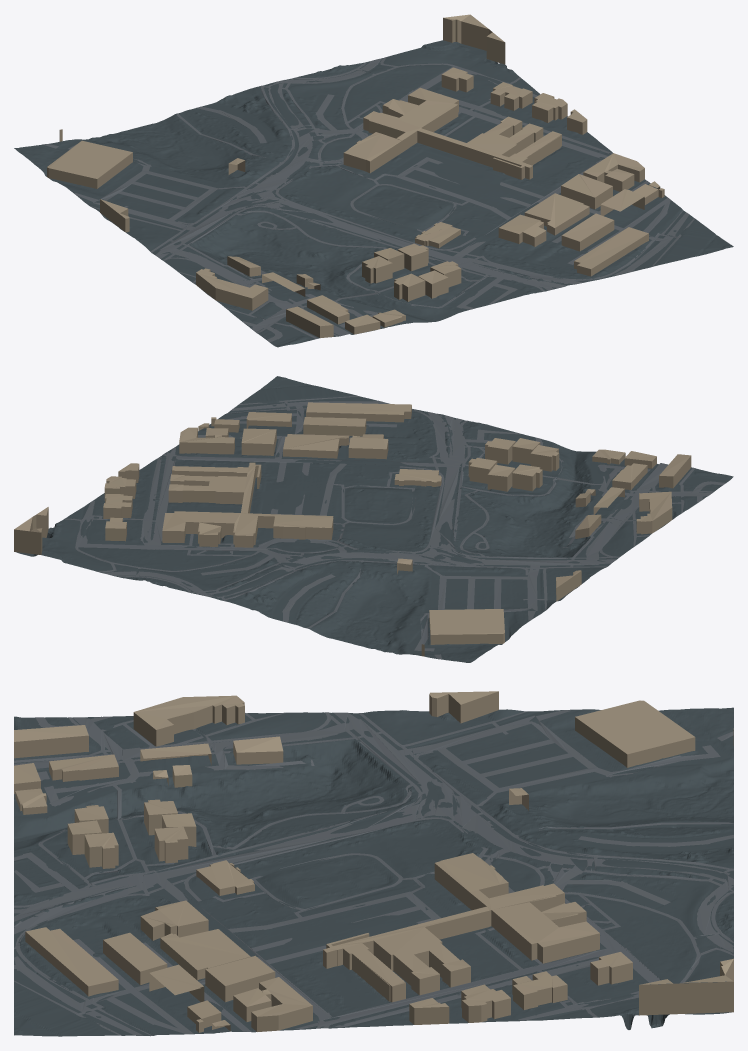
The model's file is epsg26910-1427-10895.lod0.glb.
3 renders of one model, top to bottom at view 1: azimuth 30°, elevation 25°; view 2: azimuth 150°, elevation 25°; view 3: azimuth 270°, elevation 25°, orthographic. The views are drawn at different scales.
Visible parts, largest first — view 1: epsg26910-1427-10895-lod0; view 2: epsg26910-1427-10895-lod0; view 3: epsg26910-1427-10895-lod0.
Part boxes in pixels (x1,y1,x2,y2): epsg26910-1427-10895-lod0: [14, 14, 733, 347]; epsg26910-1427-10895-lod0: [14, 376, 733, 662]; epsg26910-1427-10895-lod0: [14, 691, 733, 1036].
Size of the model in its own units: 384 by 36.36 by 384.
